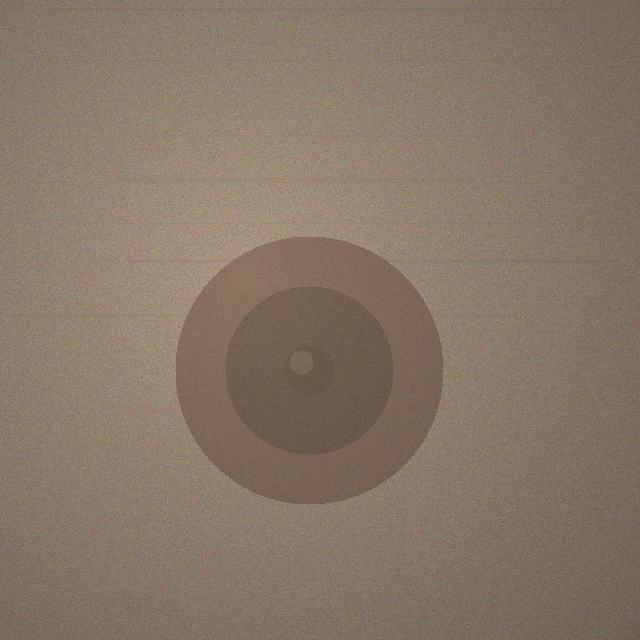good: (175, 236, 443, 504)
